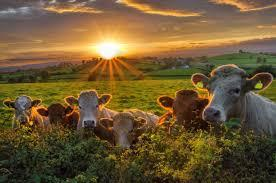cow: (191, 64, 276, 139), (65, 90, 115, 148), (99, 108, 159, 150), (158, 89, 210, 137), (3, 95, 52, 133), (37, 102, 80, 131)
